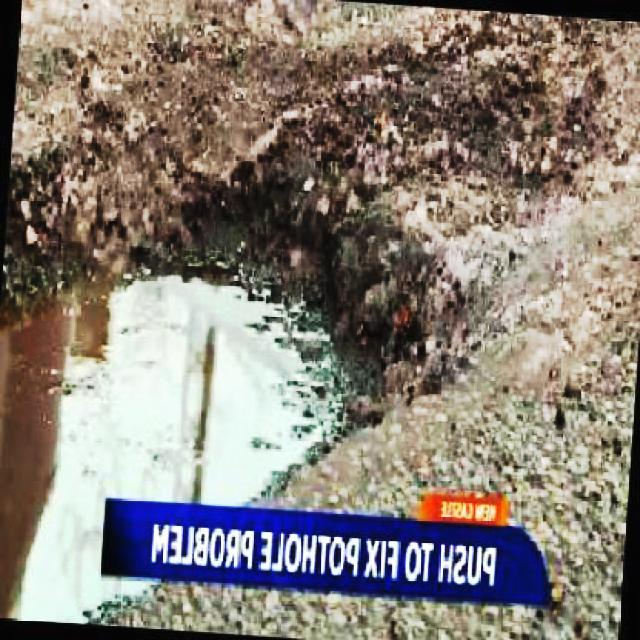pothole: (0, 118, 491, 628)
